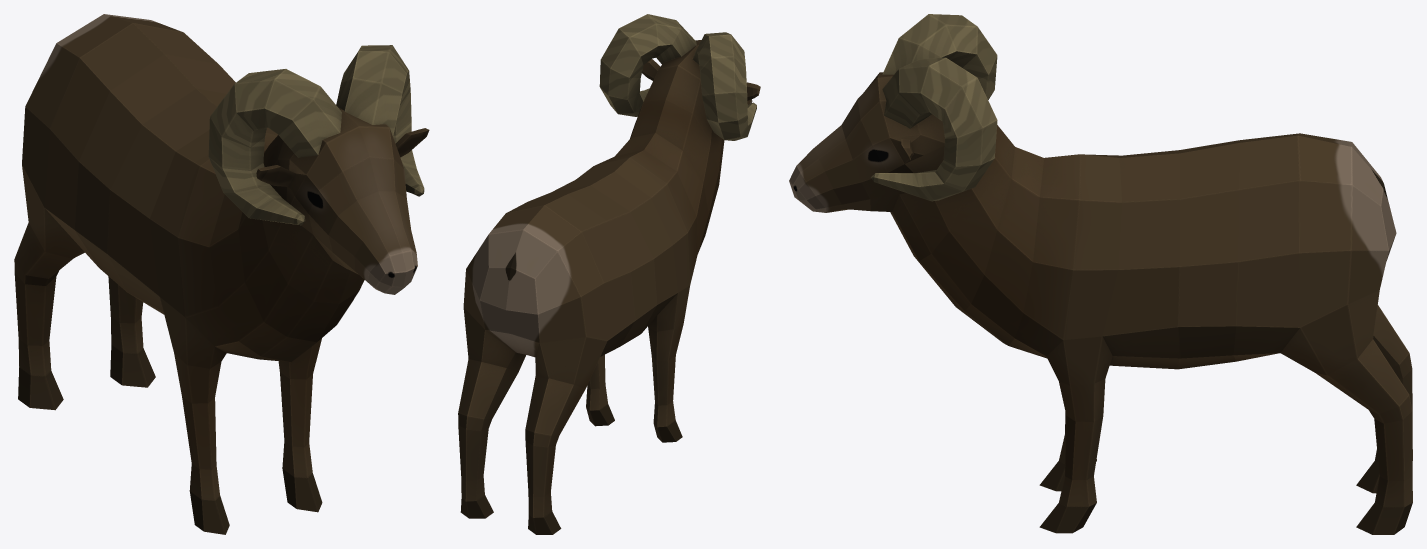
The model's file is BighornSheep.gltf.
The picture shows the model from 3 angles, left to right: view 1: azimuth 30°, elevation 25°; view 2: azimuth 150°, elevation 25°; view 3: azimuth 270°, elevation 25°; orthographic projection. The views are drawn at different scales.
Visible parts, largest first — view 1: node-0; view 2: node-0; view 3: node-0.
Part boxes in pixels (x1,y1,x2,y2): node-0: (14, 14, 429, 534); node-0: (458, 14, 760, 534); node-0: (789, 14, 1412, 534).
Size of the model in its own units: 2.46 by 6.21 by 7.53.
1 material, 1 textured.
